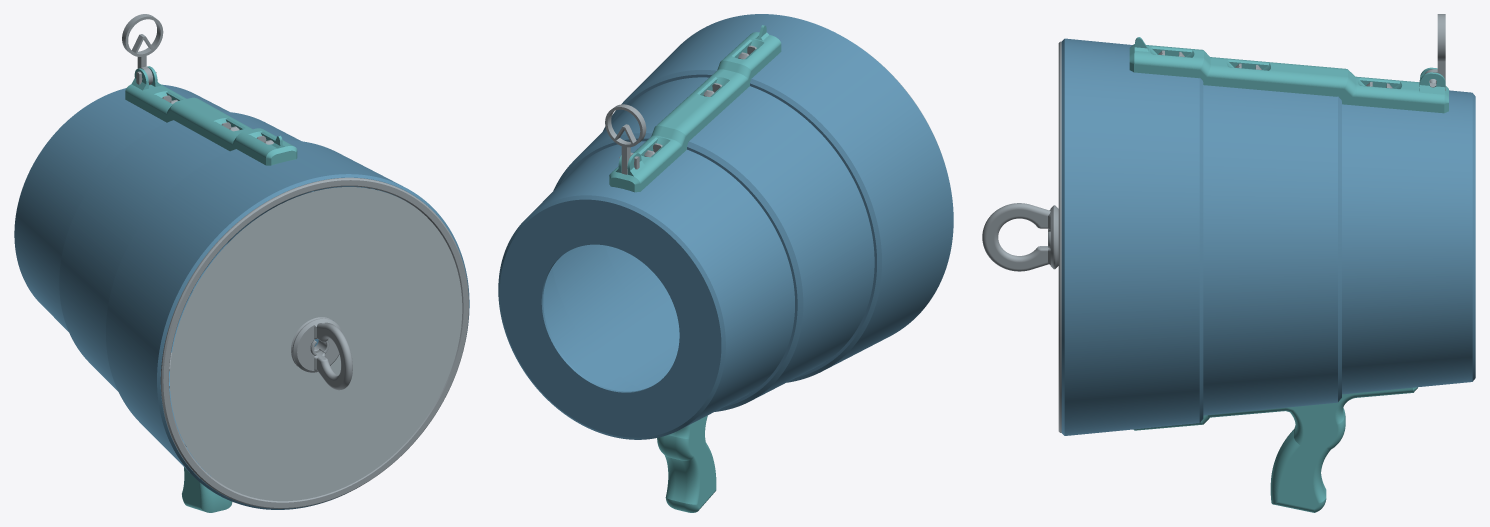
File: full-stock-rest.glb
3 views of the same model, side by side, from view 1: azimuth 30°, elevation 25°; view 2: azimuth 150°, elevation 25°; view 3: azimuth 270°, elevation 25° (orthographic). The views are drawn at different scales.
Visible parts, largest first — view 1: film-study-not-manufactured-part, obj_7_AirZooka03_RingBack.STEP.stl, obj_8_AirZooka03_RingMiddle.STEP.stl, obj_6_AirZooka03_RingFront.STEP.stl, obj_10_BackClampRing4.STEP.stl, obj_3_TopClamp3.STEP.stl, obj_5_PinchRingCap3.STEP.stl, obj_4_Handle03.STEP.stl, obj_2_Sight2.STEP.stl; view 2: obj_6_AirZooka03_RingFront.STEP.stl, obj_8_AirZooka03_RingMiddle.STEP.stl, obj_7_AirZooka03_RingBack.STEP.stl, obj_3_TopClamp3.STEP.stl, obj_4_Handle03.STEP.stl, obj_2_Sight2.STEP.stl; view 3: obj_7_AirZooka03_RingBack.STEP.stl, obj_8_AirZooka03_RingMiddle.STEP.stl, obj_6_AirZooka03_RingFront.STEP.stl, obj_3_TopClamp3.STEP.stl, obj_4_Handle03.STEP.stl, obj_5_PinchRingCap3.STEP.stl, obj_10_BackClampRing4.STEP.stl, obj_2_Sight2.STEP.stl.
Part boxes in pixels (<box>): film-study-not-manufactured-part: <box>169,187,462,501</box>; obj_7_AirZooka03_RingBack.STEP.stl: <box>106,140,469,509</box>; obj_8_AirZooka03_RingMiddle.STEP.stl: <box>59,111,374,446</box>; obj_6_AirZooka03_RingFront.STEP.stl: <box>14,84,313,388</box>; obj_10_BackClampRing4.STEP.stl: <box>160,177,468,508</box>; obj_3_TopClamp3.STEP.stl: <box>125,66,297,165</box>; obj_5_PinchRingCap3.STEP.stl: <box>292,318,352,390</box>; obj_4_Handle03.STEP.stl: <box>182,467,232,512</box>; obj_2_Sight2.STEP.stl: <box>122,14,163,84</box>; obj_6_AirZooka03_RingFront.STEP.stl: <box>498,141,794,439</box>; obj_8_AirZooka03_RingMiddle.STEP.stl: <box>552,77,874,411</box>; obj_7_AirZooka03_RingBack.STEP.stl: <box>603,14,953,382</box>; obj_3_TopClamp3.STEP.stl: <box>609,25,781,192</box>; obj_4_Handle03.STEP.stl: <box>657,415,716,512</box>; obj_2_Sight2.STEP.stl: <box>605,104,646,174</box>; obj_7_AirZooka03_RingBack.STEP.stl: <box>1061,38,1203,435</box>; obj_8_AirZooka03_RingMiddle.STEP.stl: <box>1203,85,1341,415</box>; obj_6_AirZooka03_RingFront.STEP.stl: <box>1342,90,1475,394</box>; obj_3_TopClamp3.STEP.stl: <box>1129,37,1448,113</box>; obj_4_Handle03.STEP.stl: <box>1133,387,1417,512</box>; obj_5_PinchRingCap3.STEP.stl: <box>982,203,1058,271</box>; obj_10_BackClampRing4.STEP.stl: <box>1058,41,1061,432</box>; obj_2_Sight2.STEP.stl: <box>1424,14,1445,90</box>.
Bounding box in the file's own units: 0.2496 × 0.341 × 0.3098.
